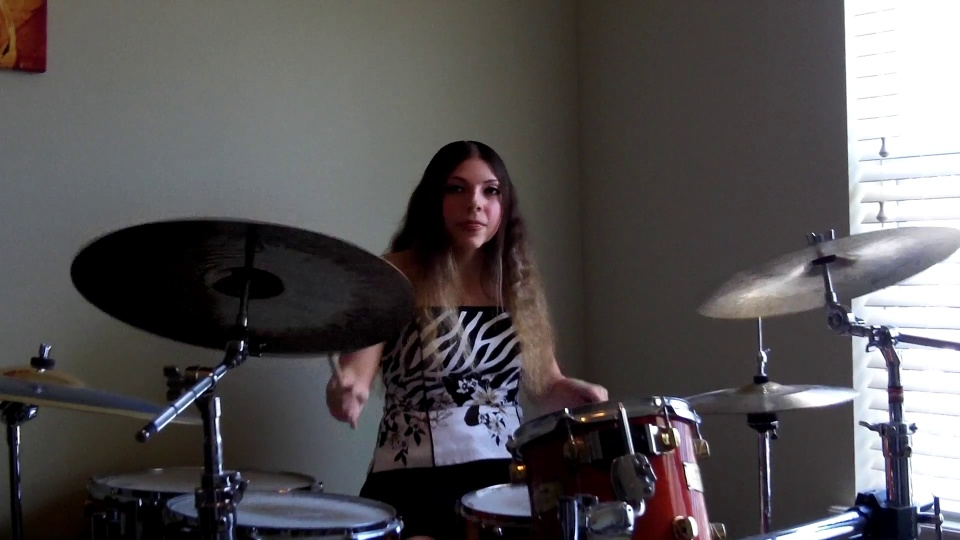person: (370, 139, 598, 484)
